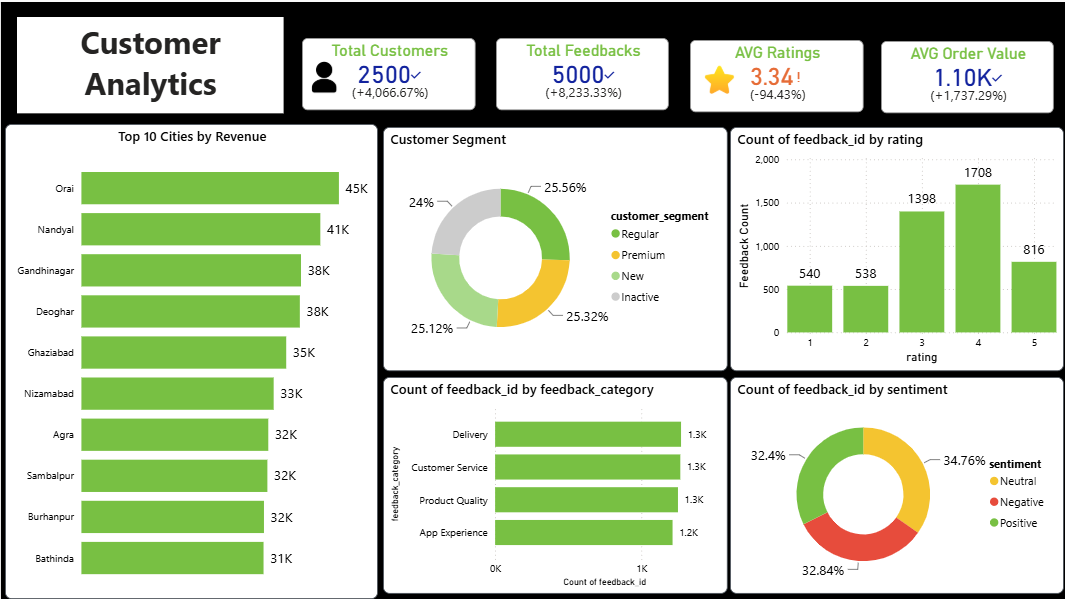

What the dashboard file says about the page in this screenshot:
{"tool":"powerbi","page":{"name":"CUSTOMER ANALYTICS","canvas":[1280,720],"ordinal":1},"visuals":[{"type":"clusteredBarChart","title":"Top 10 Cities by Revenue","fields":{"Y":["order_items_clean.Total Revenue"],"Category":["customers_clean.area"]},"box":[5.3,147.2,449.3,571.5],"z":0},{"type":"clusteredColumnChart","fields":{"Category":["customer_feedback_clean.rating"],"Y":["CountNonNull(customer_feedback_clean.feedback_id)"]},"box":[877.7,151.1,402,294.3],"z":1000},{"type":"clusteredBarChart","fields":{"Category":["customer_feedback_clean.feedback_category"],"Y":["CountNonNull(customer_feedback_clean.feedback_id)"]},"box":[459.9,452,415.2,261.5],"z":2000},{"type":"donutChart","fields":{"Category":["customer_feedback_clean.sentiment"],"Y":["CountNonNull(customer_feedback_clean.feedback_id)"]},"box":[877.7,452,402,261.5],"z":3000},{"type":"kpi","title":"Total Customers","fields":{"Indicator":["customers_clean.Total Customers"],"TrendLine":["Date Table.Month Name"],"Goal":["CountNonNull(Dim Calendar.Year)"]},"box":[362.4,43.3,209.5,86.7],"z":4000},{"type":"image","box":[369.6,65,38.5,50.6],"z":5000},{"type":"kpi","title":"Total Feedbacks","fields":{"Indicator":["customer_feedback_clean.Total Feedbacks"],"TrendLine":["Date Table.Month Name"],"Goal":["CountNonNull(Dim Calendar.Year)"]},"box":[596,43.3,208.3,86.7],"z":6000},{"type":"kpi","title":"AVG Ratings","fields":{"Indicator":["customer_feedback_clean.Average Rating"],"TrendLine":["Date Table.Month Name"],"Goal":["CountNonNull(Dim Calendar.Year)"]},"box":[829.6,45.9,208.9,86.7],"z":7000},{"type":"kpi","title":"AVG Order Value","fields":{"Indicator":["customers_clean.Average Order Value"],"TrendLine":["Date Table.Month Name"],"Goal":["CountNonNull(Dim Calendar.Year)"]},"box":[1059.5,47,208.3,86.7],"z":8000},{"type":"textbox","box":[19.3,18.1,321.5,115.6],"z":9000},{"type":"donutChart","title":"Customer Segment","fields":{"Y":["CountNonNull(customers_clean.customer_id)"],"Category":["customers_clean.customer_segment"]},"box":[459.9,151.1,415.2,294.3],"z":10000},{"type":"image","box":[844,68.3,42,49.9],"z":11000}]}

Visuals, with their boxes in screenshot pixels (x1, y1, x2, y2), scaled from the page's 1280x720 canvas onto the 1065x599 screenshot:
"Top 10 Cities by Revenue" clusteredBarChart: 4, 122, 378, 598
clusteredColumnChart - customer_feedback_clean.rating x CountNonNull(customer_feedback_clean.feedback_id): 730, 126, 1064, 371
clusteredBarChart - customer_feedback_clean.feedback_category x CountNonNull(customer_feedback_clean.feedback_id): 383, 376, 728, 594
donutChart - customer_feedback_clean.sentiment x CountNonNull(customer_feedback_clean.feedback_id): 730, 376, 1064, 594
"Total Customers" kpi: 302, 36, 476, 108
image: 308, 54, 340, 96
"Total Feedbacks" kpi: 496, 36, 669, 108
"AVG Ratings" kpi: 690, 38, 864, 110
"AVG Order Value" kpi: 882, 39, 1055, 111
textbox: 16, 15, 284, 111
"Customer Segment" donutChart: 383, 126, 728, 371
image: 702, 57, 737, 98
